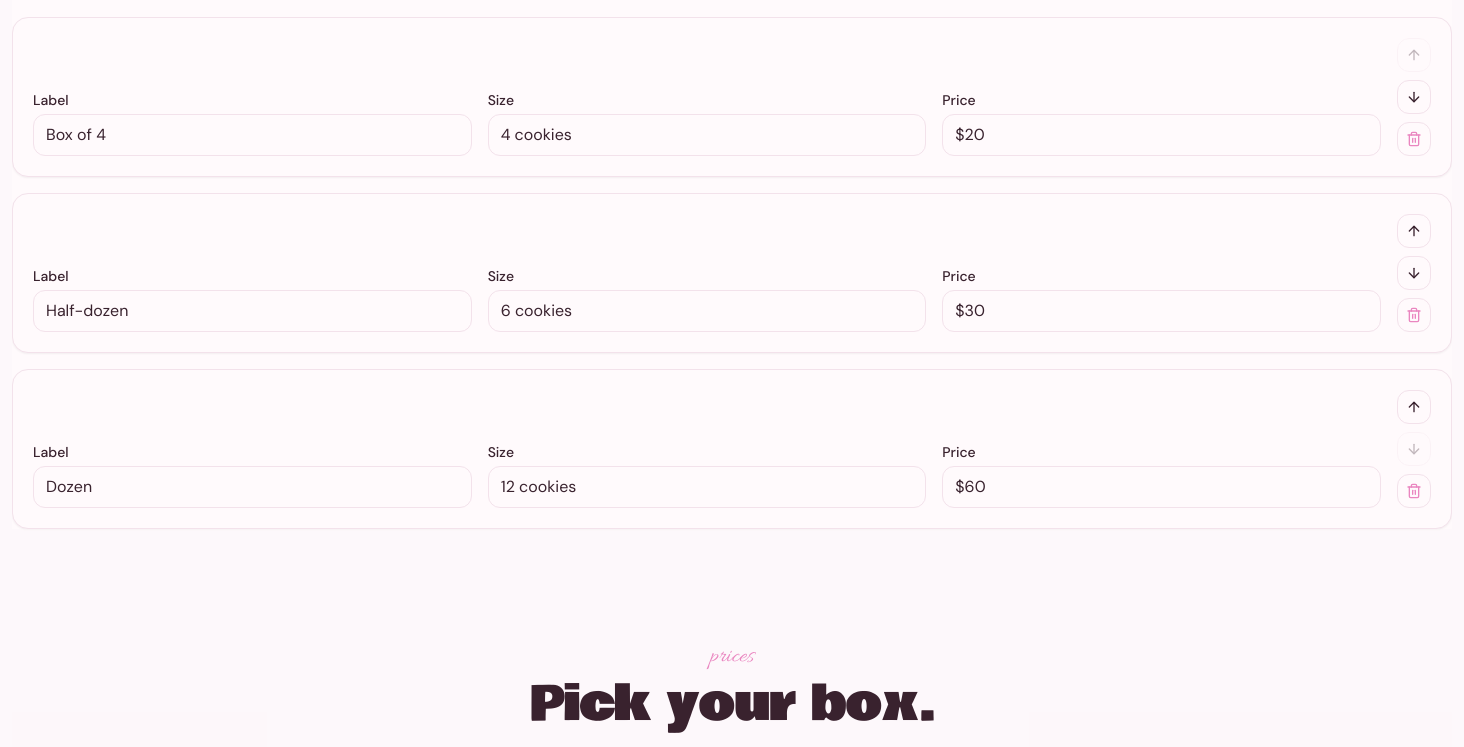
Test: contract: Pricing editor ↔ Pricing public component › editing a tier label propagates to the public pricing card
In the 1st field showing "Box of 4": (252, 135) [33,114,472,156], type "Sampler Pack"
(page scrolled)
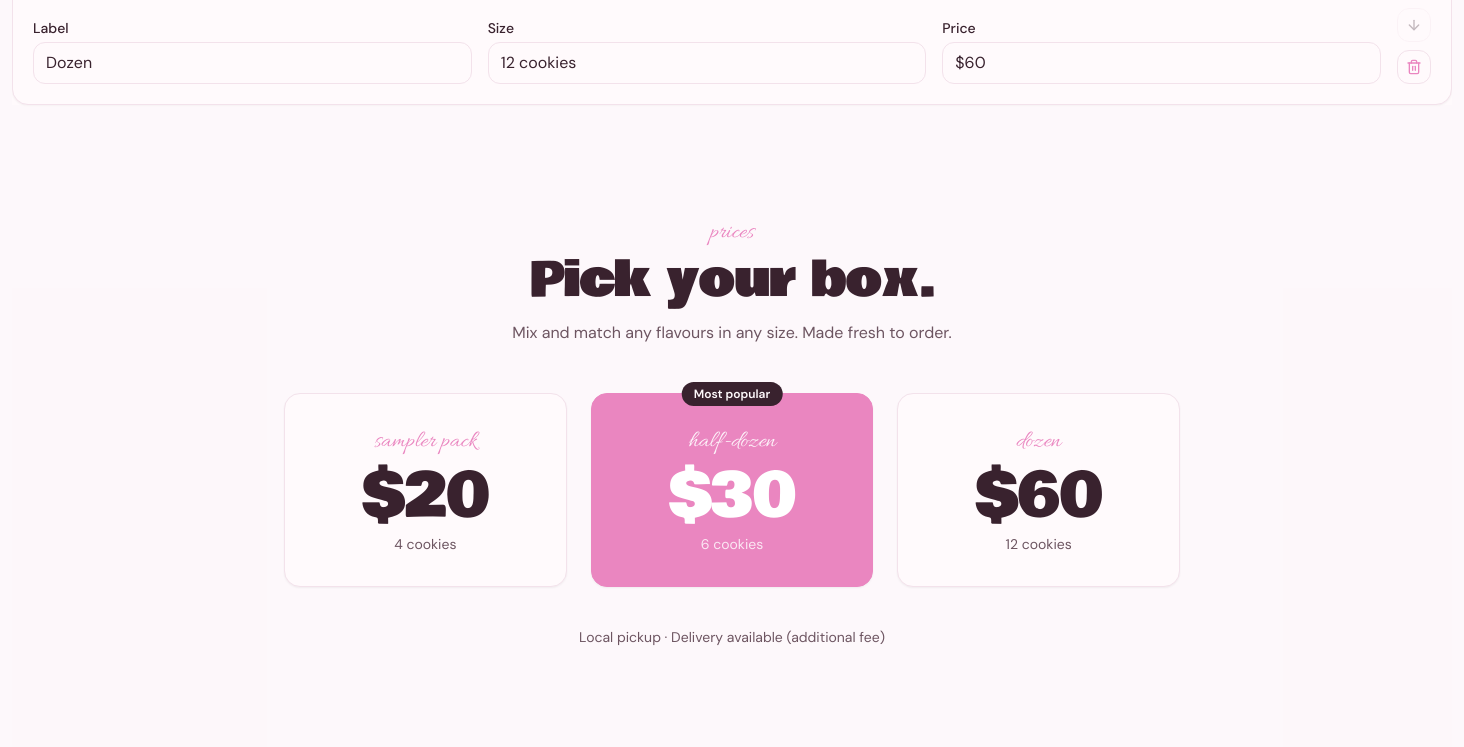
Now the text "sampler pack" is shown, box [374,427,476,457]
